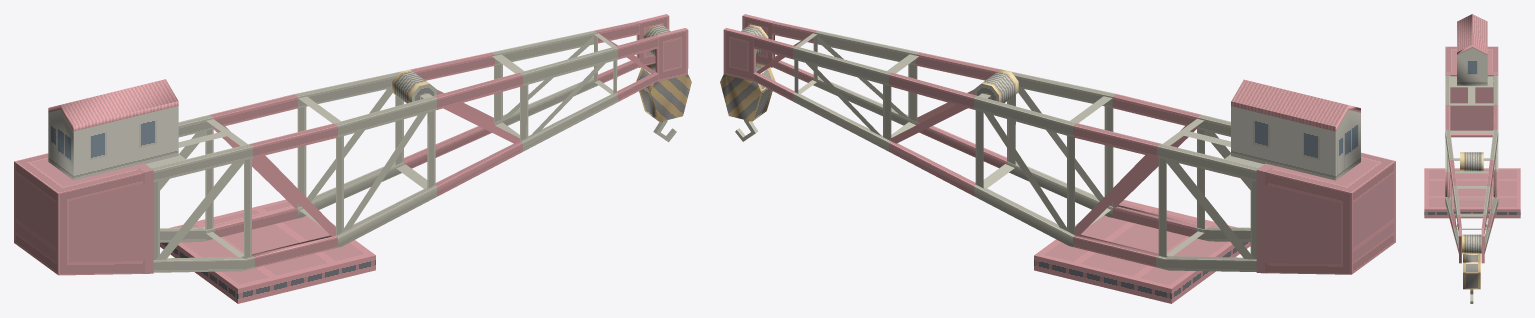
Rendered from 02cb_Crane.glb.
3 renders of one model, left to right at view 1: azimuth 30°, elevation 25°; view 2: azimuth 150°, elevation 25°; view 3: azimuth 270°, elevation 25°, orthographic. The views are drawn at different scales.
Parts seen in each view (by area): view 1: part_0; view 2: part_0; view 3: part_0.
Boxes of the visible parts, x1,y1,x2,y2 form: part_0: [14, 14, 691, 303]; part_0: [720, 14, 1395, 303]; part_0: [1424, 14, 1520, 303].
Bounding box in the file's own units: 23.29 × 6.99 × 4.96.
Materials: 1 (1 with a texture image).
